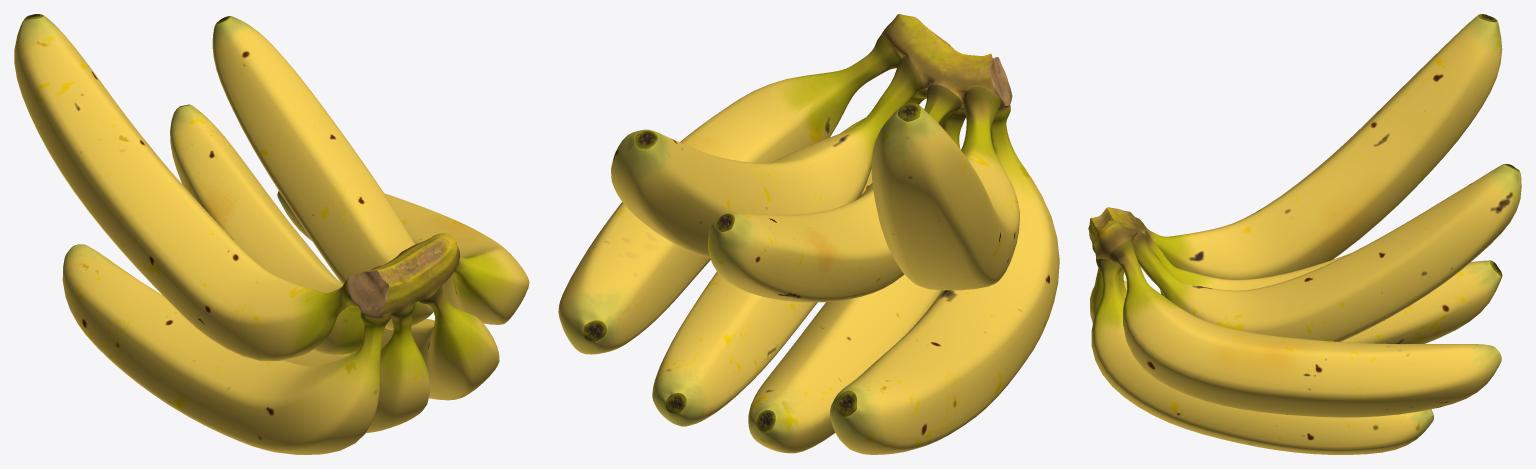
File: banana.glb
3 renders of one model, left to right at view 1: azimuth 30°, elevation 25°; view 2: azimuth 150°, elevation 25°; view 3: azimuth 270°, elevation 25°, orthographic. The views are drawn at different scales.
Parts seen in each view (by area): view 1: Object_2; view 2: Object_2; view 3: Object_2.
Part boxes in pixels (<box>): Object_2: <box>14,14,529,454</box>; Object_2: <box>558,14,1059,454</box>; Object_2: <box>1088,14,1521,454</box>.
Bounding box in the file's own units: 14.61 × 13.87 × 16.41.
1 material, 1 textured.
